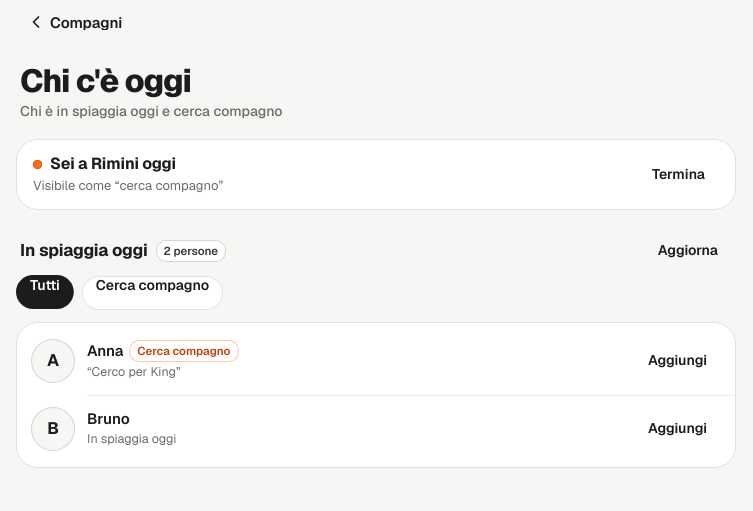
Test: ChiCeOggi — la stanza › se il collegamento fallisce mostra l'errore e resta ri-tentabile
Click the button with aria-label "Aggiungi Anna ai compagni" at (677,360), box [634,344,721,378]
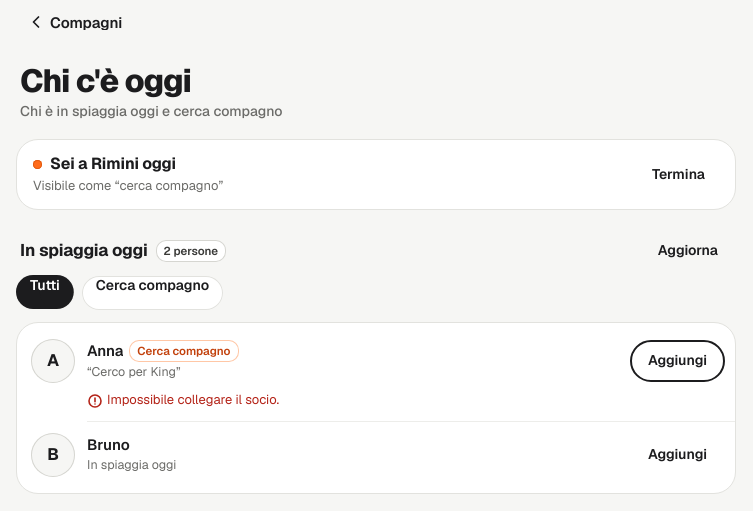
Expected: the message reads "Impossibile collegare il socio.", [107,390,279,408]
